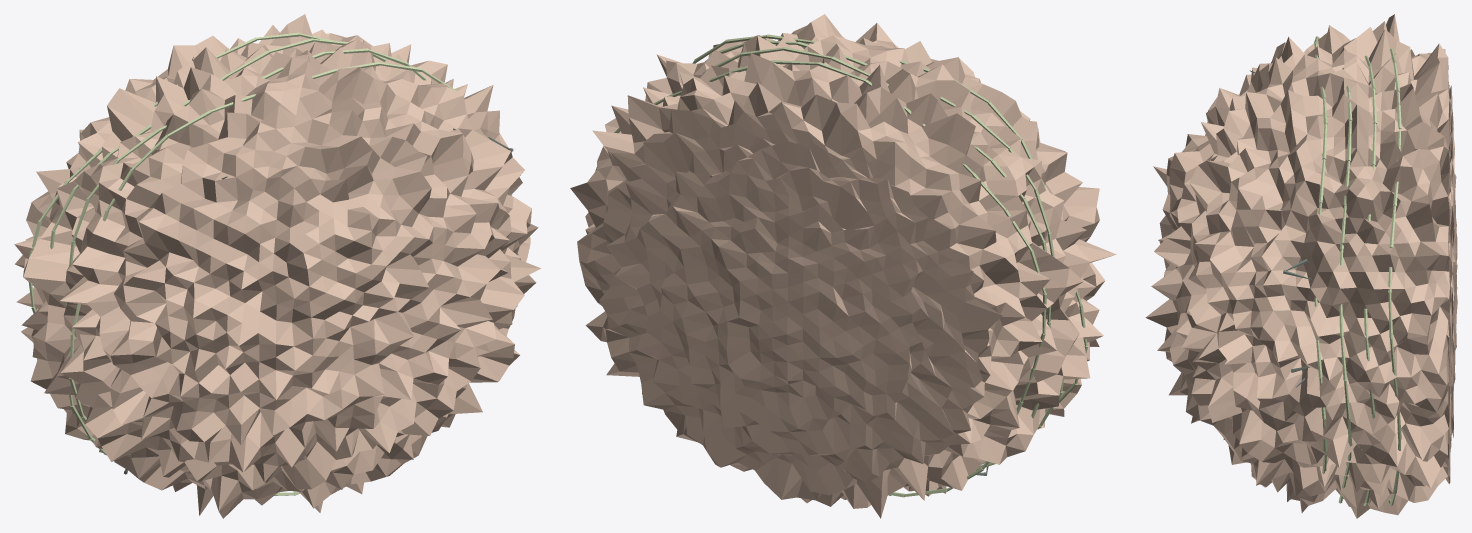
The model's file is Aquarion_Reef_Limestone.glb.
3 views of the same model, side by side, from view 1: azimuth 30°, elevation 25°; view 2: azimuth 150°, elevation 25°; view 3: azimuth 270°, elevation 25° (orthographic). The views are drawn at different scales.
Visible parts, largest first — view 1: Aquarion_Reef_Limestone_mass; view 2: Aquarion_Reef_Limestone_mass; view 3: Aquarion_Reef_Limestone_mass.
Part boxes in pixels (bbox=[...]): Aquarion_Reef_Limestone_mass: bbox=[14, 14, 541, 518]; Aquarion_Reef_Limestone_mass: bbox=[570, 14, 1116, 518]; Aquarion_Reef_Limestone_mass: bbox=[1145, 14, 1457, 518].
Size of the model in its own units: 2.74 by 2.39 by 1.56.
